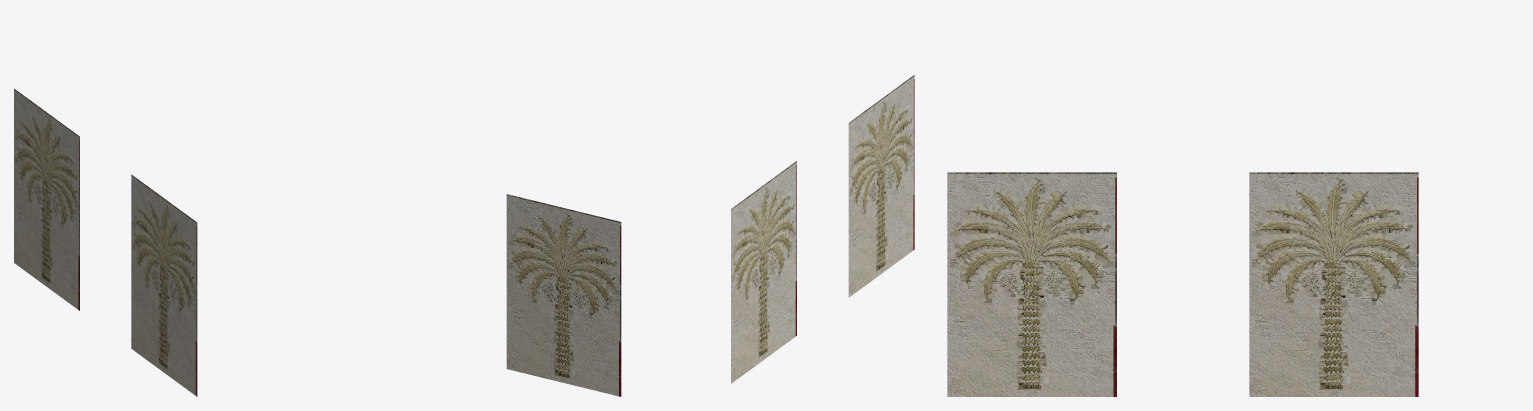
The model's file is kart_temple_big.glb.
The picture shows the model from 3 angles, left to right: view 1: azimuth 30°, elevation 25°; view 2: azimuth 150°, elevation 25°; view 3: azimuth 270°, elevation 25°; orthographic projection. The views are drawn at different scales.
Visible parts, largest first — view 1: Plane05; view 2: Plane05; view 3: Plane05.
Boxes of the visible parts, x1,y1,x2,y2 form: Plane05: [14, 88, 197, 396]; Plane05: [506, 75, 914, 396]; Plane05: [947, 172, 1418, 396].
Size of the model in its own units: 8.32 by 5.5 by 12.78.
Materials: 1 (1 with a texture image).
